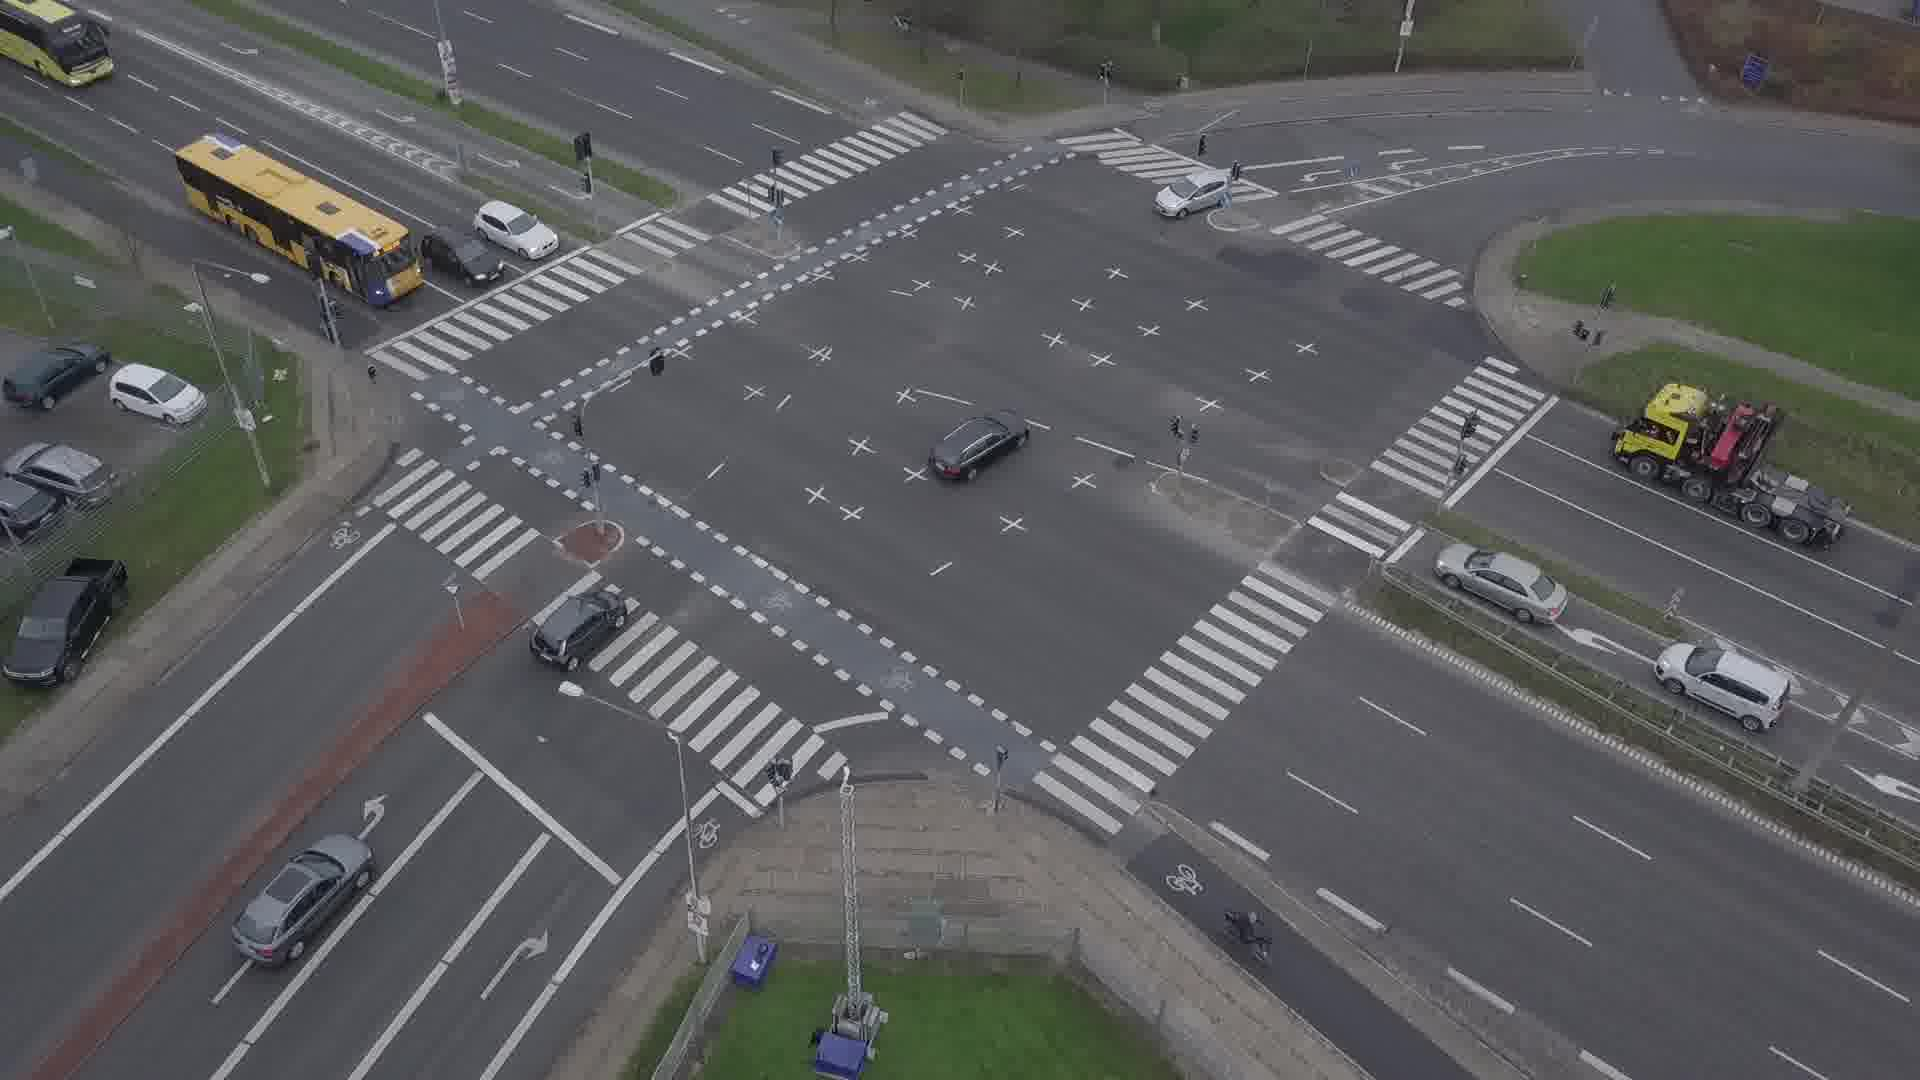bicycle: (1222, 908, 1272, 963), (318, 297, 345, 336), (886, 8, 919, 37)
bus: (174, 131, 424, 304), (0, 0, 114, 87)
car: (231, 833, 375, 962), (1654, 643, 1792, 732), (1435, 543, 1570, 625), (529, 586, 628, 674), (927, 409, 1031, 485), (473, 200, 559, 260), (419, 227, 504, 287), (1152, 169, 1231, 219)
lorry: (1611, 383, 1855, 548)
